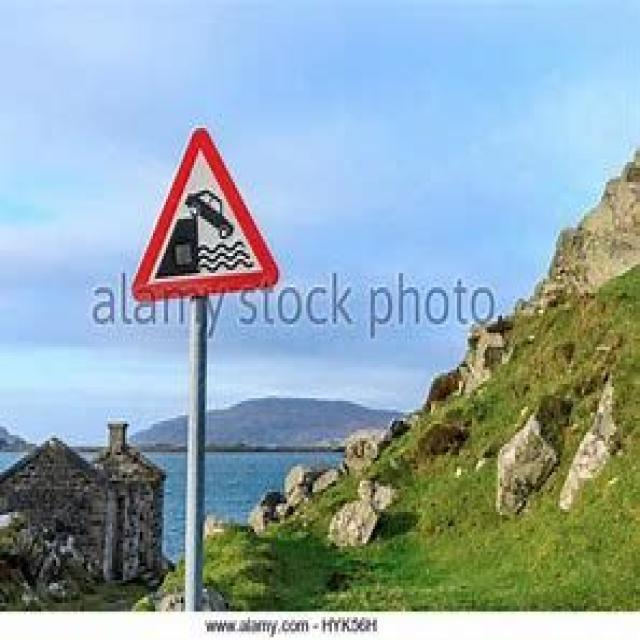quay side or river bank: (130, 119, 280, 301)
